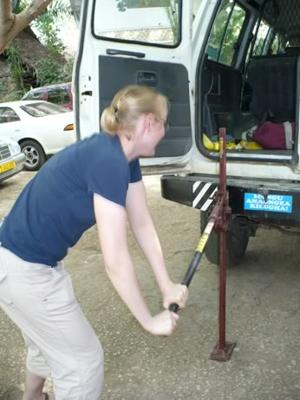person: (1, 83, 191, 400)
